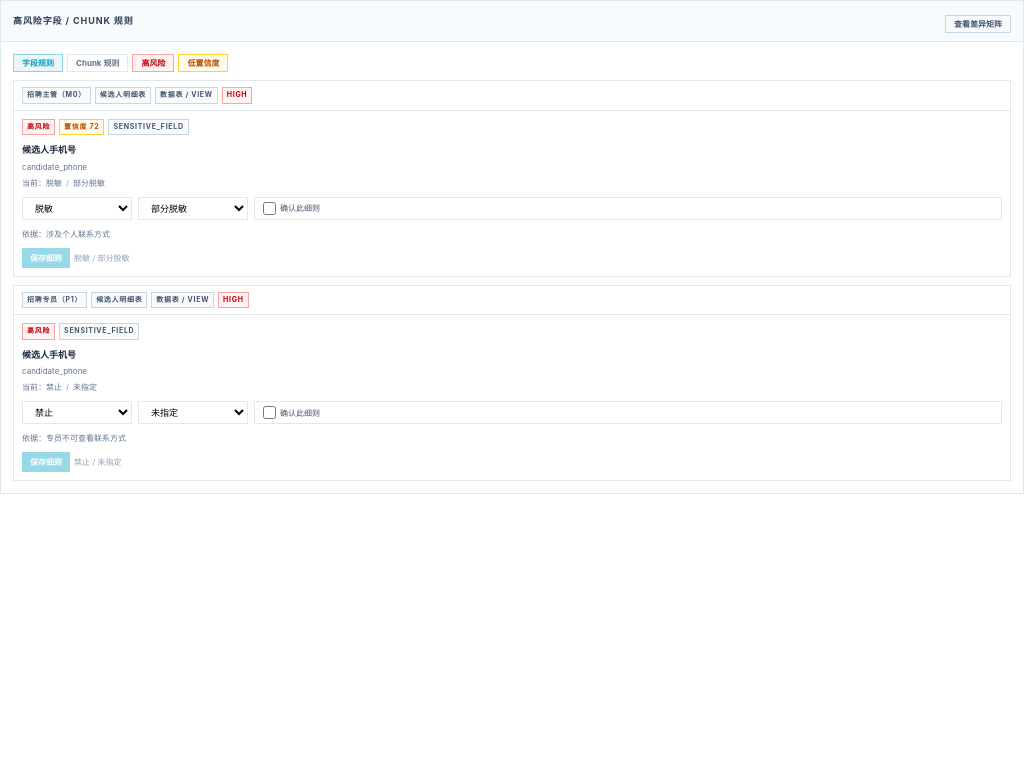
SkillGovernanceCards › GranularRulesCard opens granular diff matrix
The image size is (1024, 768).
Click the button "查看差异矩阵" at (978, 24), box [945,15,1011,33]
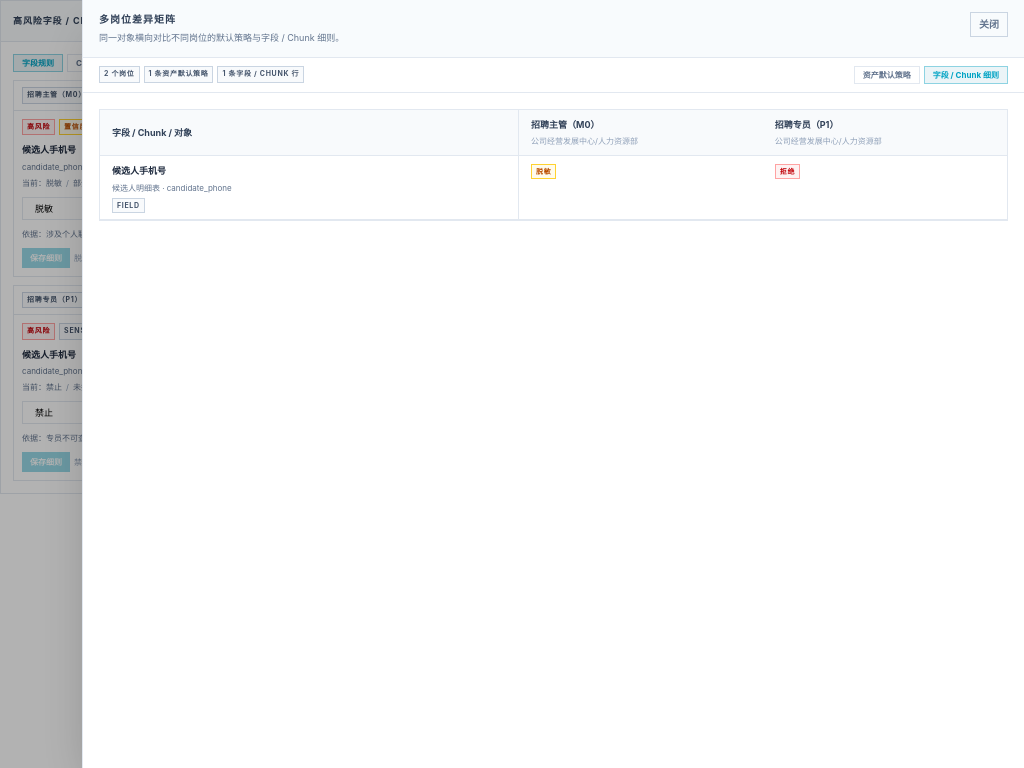
Expected: the text "候选人手机号" below "置信度 72" is shown, [22,144,76,155]
Result: the button "字段 / Chunk 细则" is shown at [924,66,1008,84]
Result: the text "拒绝" is shown at [775,164,800,179]
